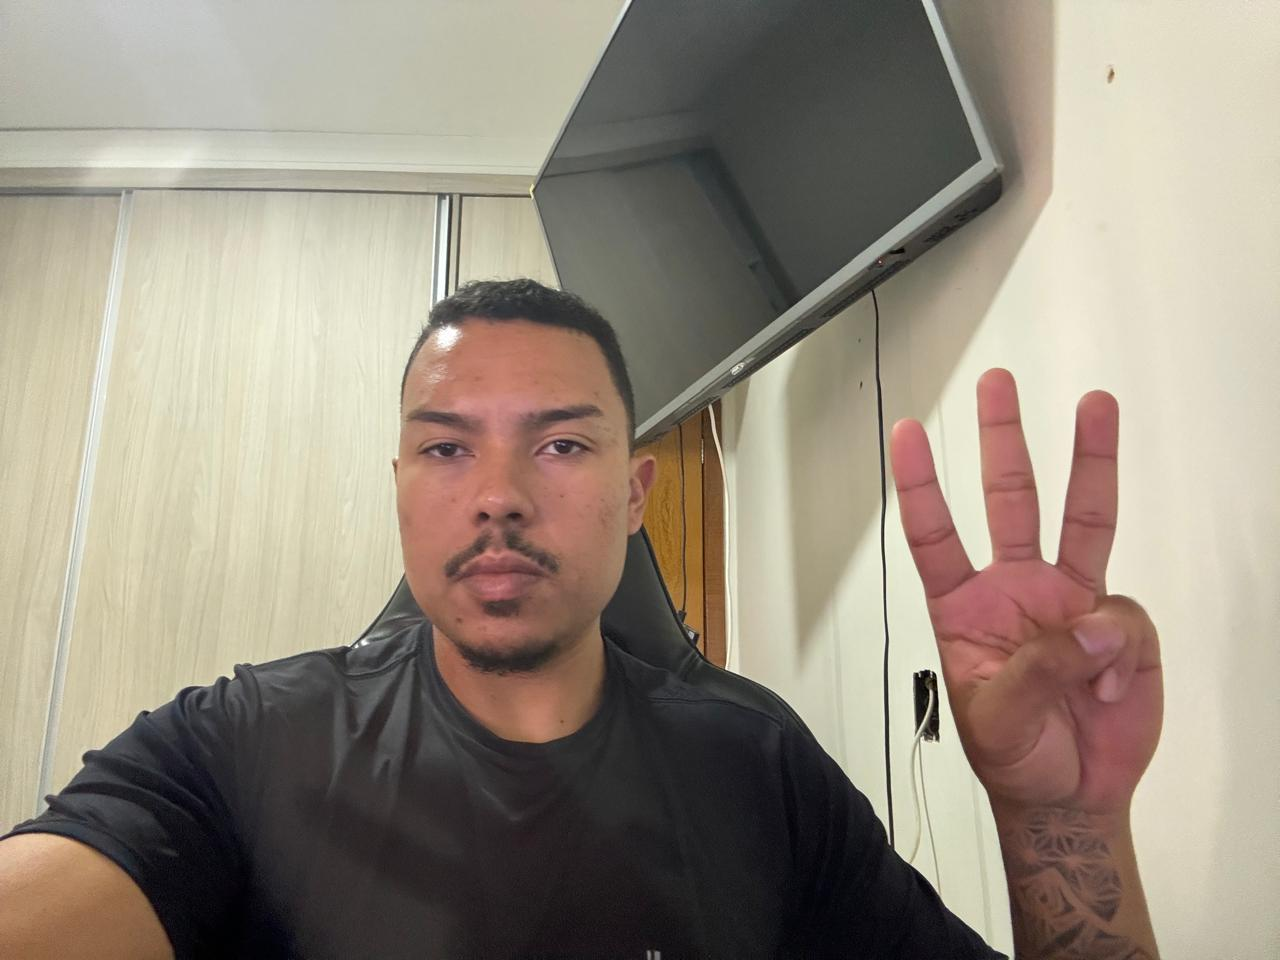w: (869, 353, 1178, 827)
